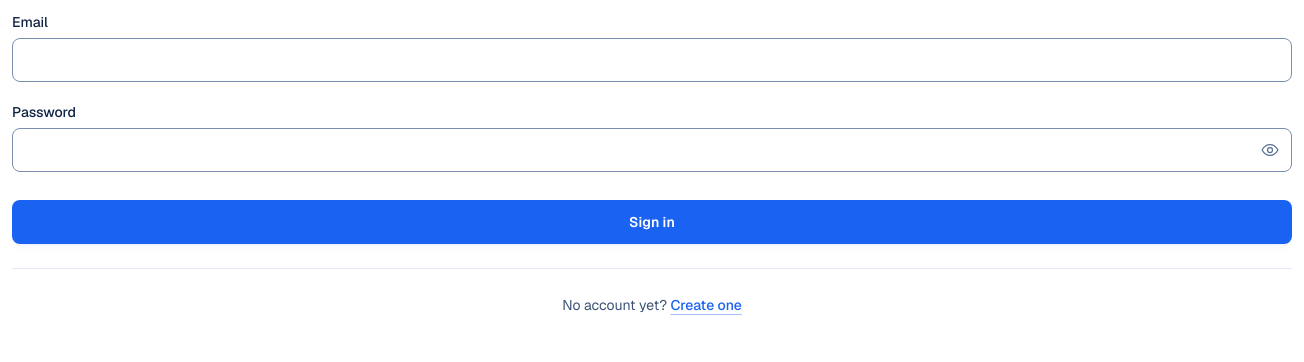
LoginForm › shows field errors returned by the action
Click the button "Sign in" at (652, 222), box x1=12 y1=200 x2=1292 y2=244
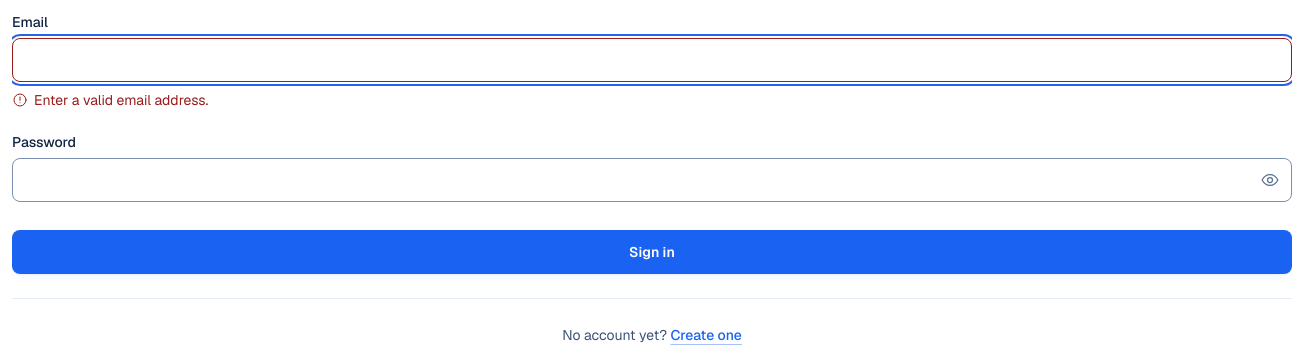
Expected: the text "Enter a valid email address." is shown, x1=34 y1=88 x2=208 y2=112
